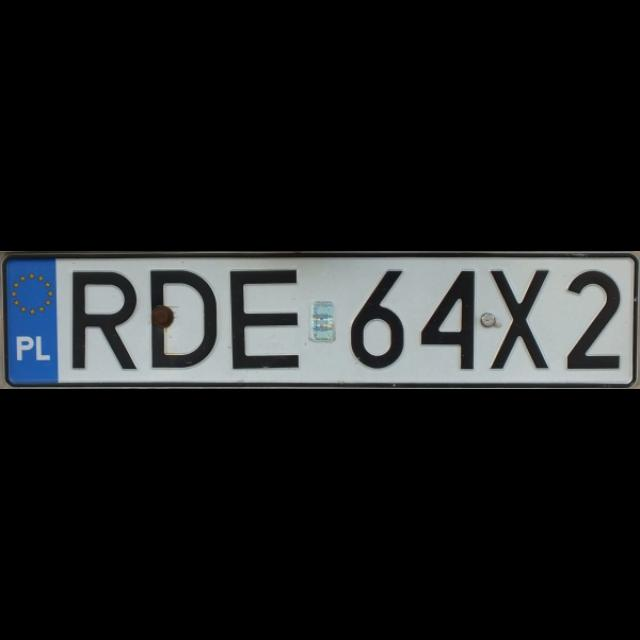pl_license_plate: (5, 257, 631, 385)
